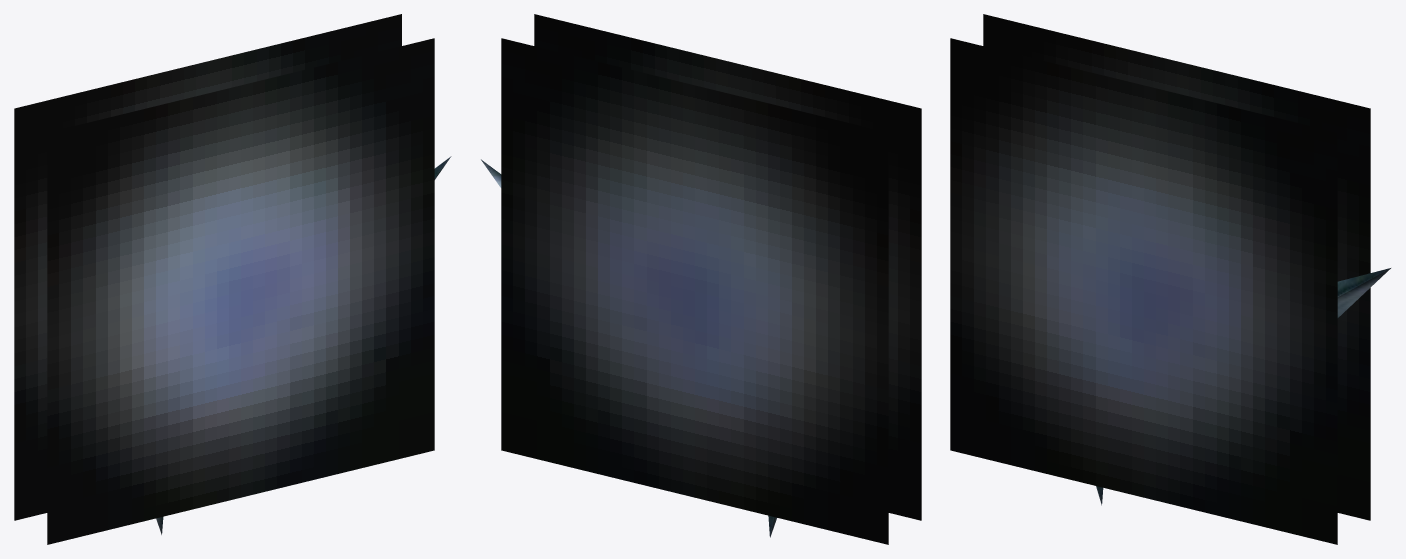
The model's file is Javelin.glb.
The picture shows the model from 3 angles, left to right: view 1: azimuth 30°, elevation 25°; view 2: azimuth 150°, elevation 25°; view 3: azimuth 330°, elevation 25°; orthographic projection.
Parts seen in each view (by area): view 1: model_Javelin; view 2: model_Javelin; view 3: model_Javelin.
Part boxes in pixels (bbox=[...]): model_Javelin: bbox=[14, 14, 451, 544]; model_Javelin: bbox=[481, 14, 921, 544]; model_Javelin: bbox=[950, 14, 1390, 544].
Size of the model in its own units: 1.14 by 1.15 by 0.1536.
Materials: 2 (2 with a texture image).
